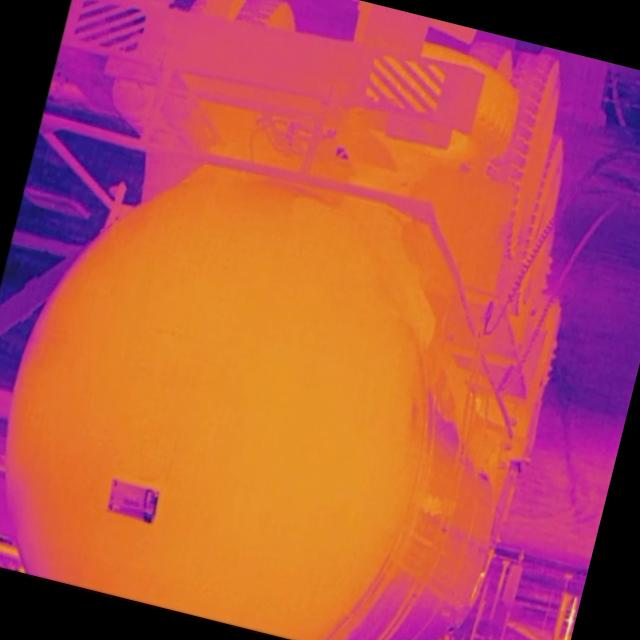tank: (0, 134, 475, 640)
